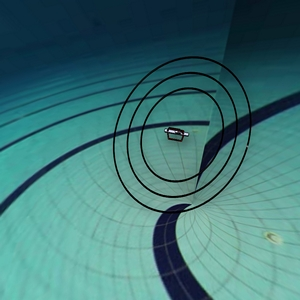circle: (107, 45, 255, 222)
submarine: (153, 121, 191, 151)
